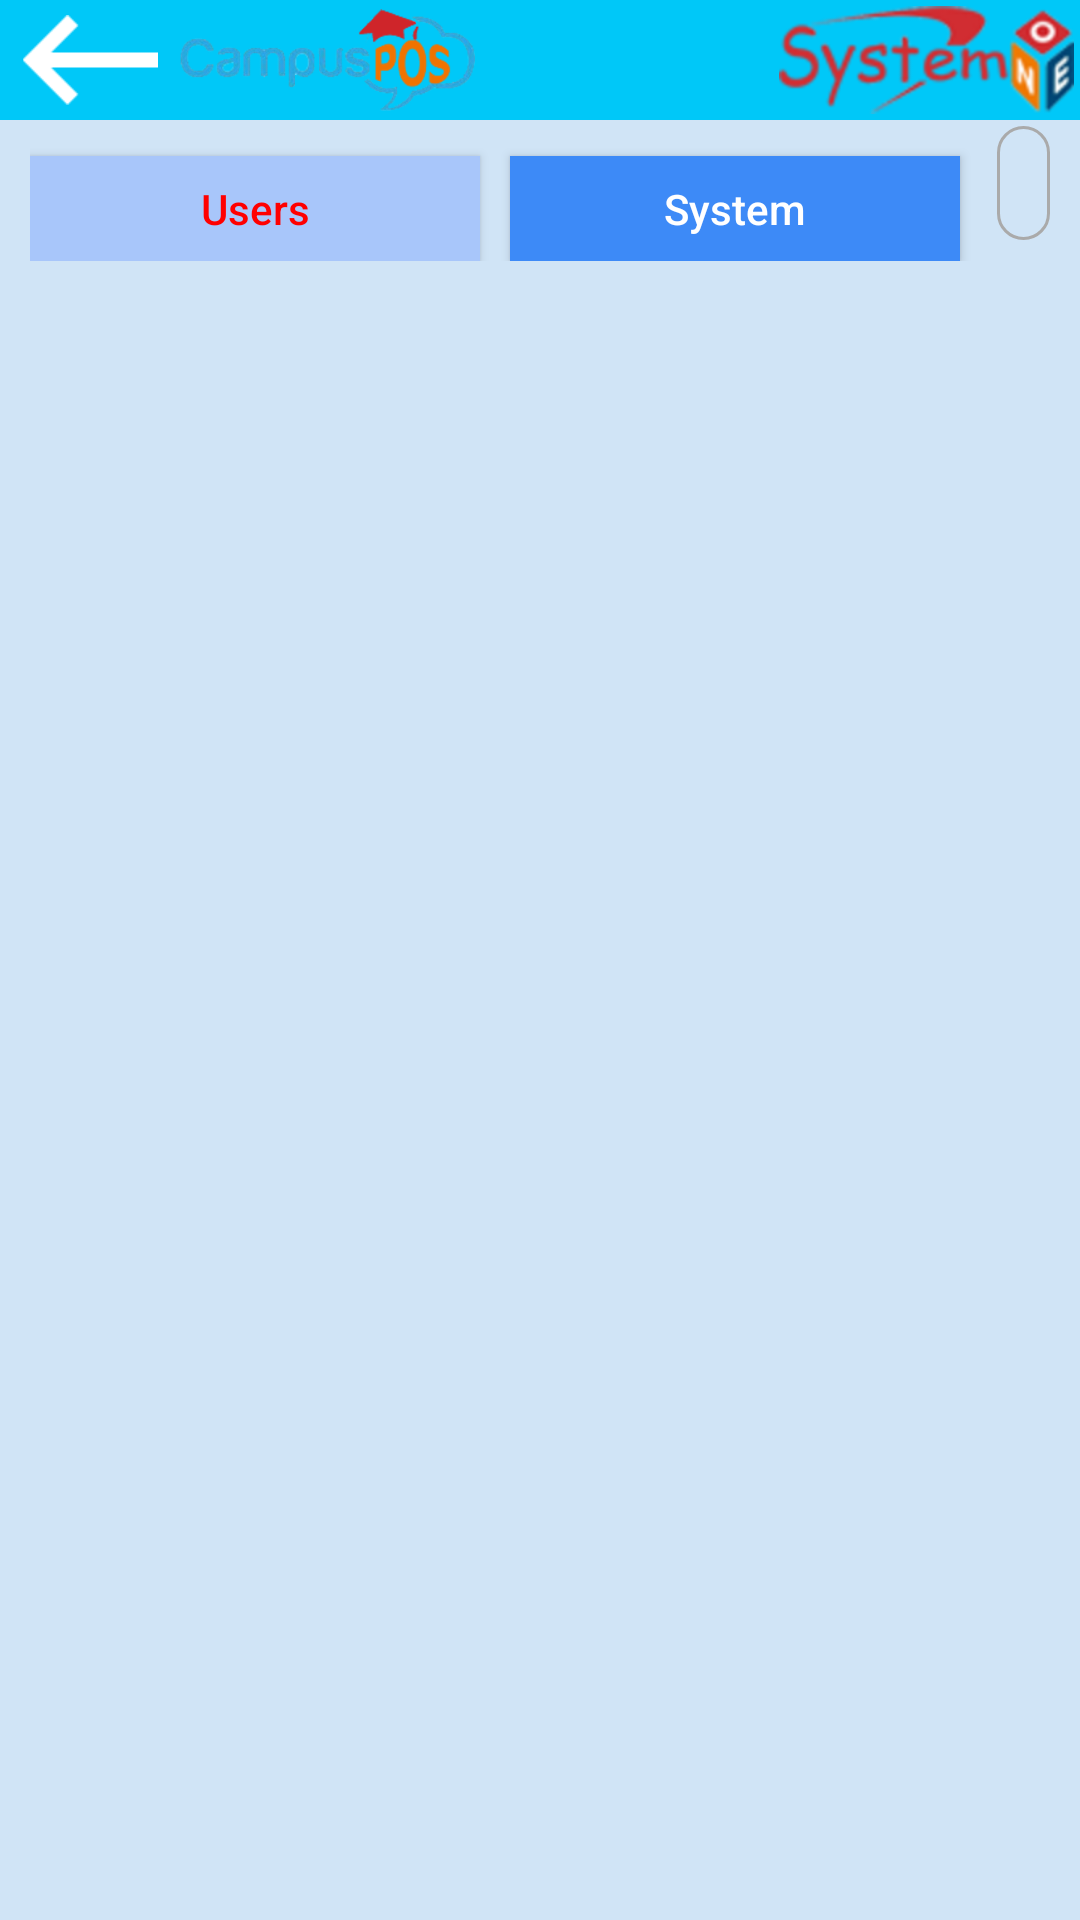

Icon bounding boxes for this 1080x1920 phone screenshot, format Rect(x1, y1, x2, y2):
back: Rect(23, 15, 158, 105)
